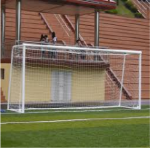goals: (7, 41, 146, 116)
